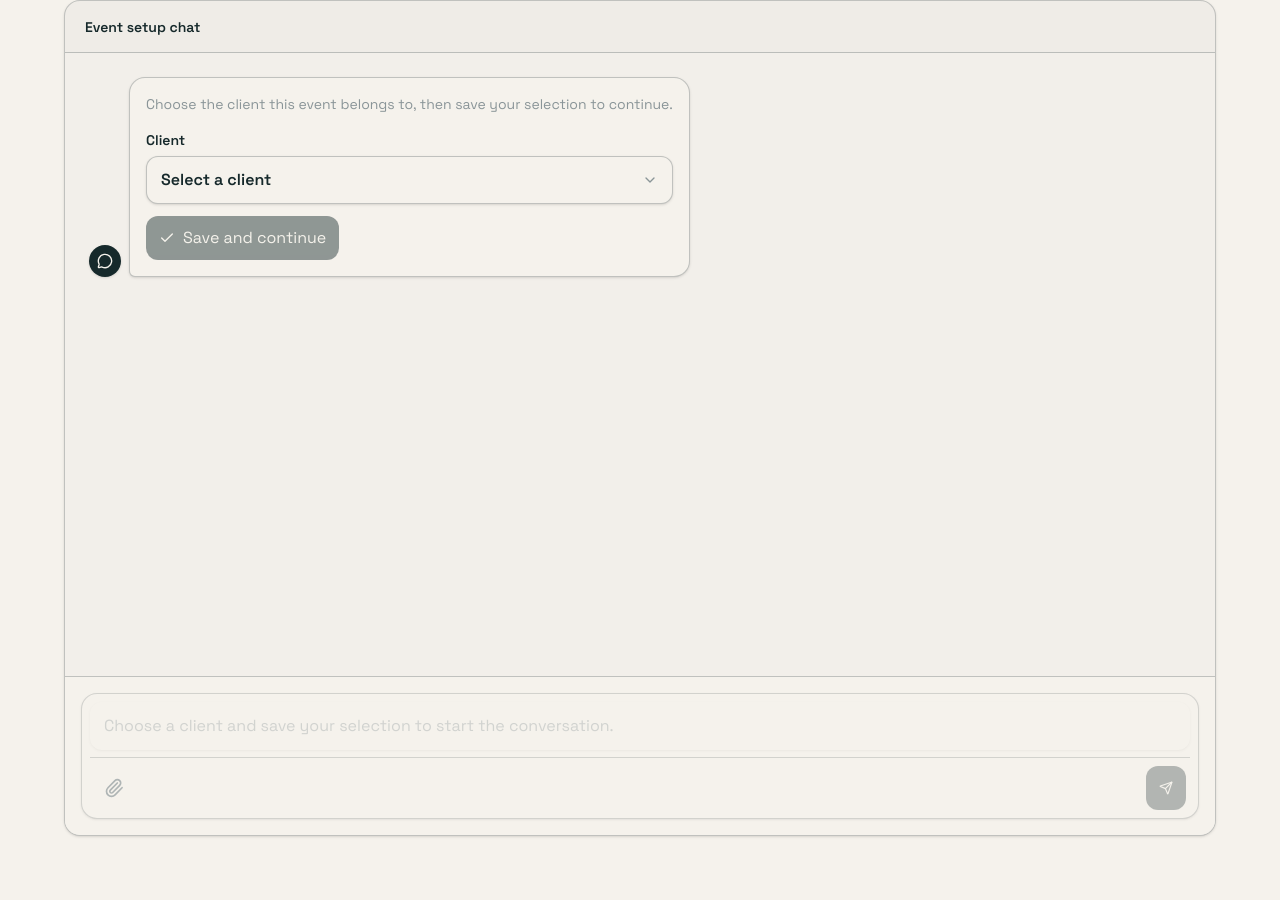
Test: CreateEventPage platform administrator flow › offers a fillable brief when the client chooses the file workflow
Click the button "Select a client".
click(216, 180)  # box [146,156,673,204]
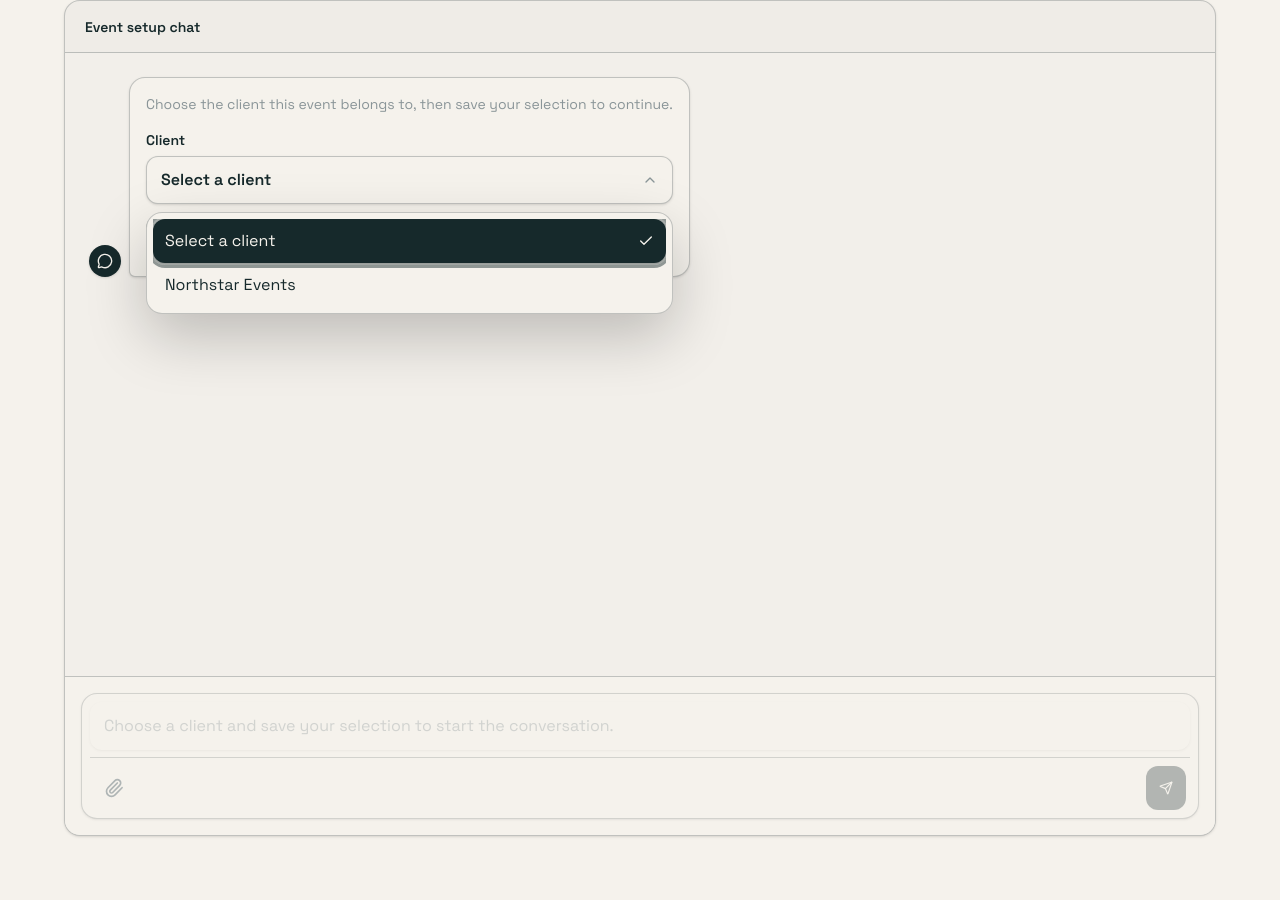
Click the option "Northstar Events".
click(230, 284)  # box [153,263,666,307]
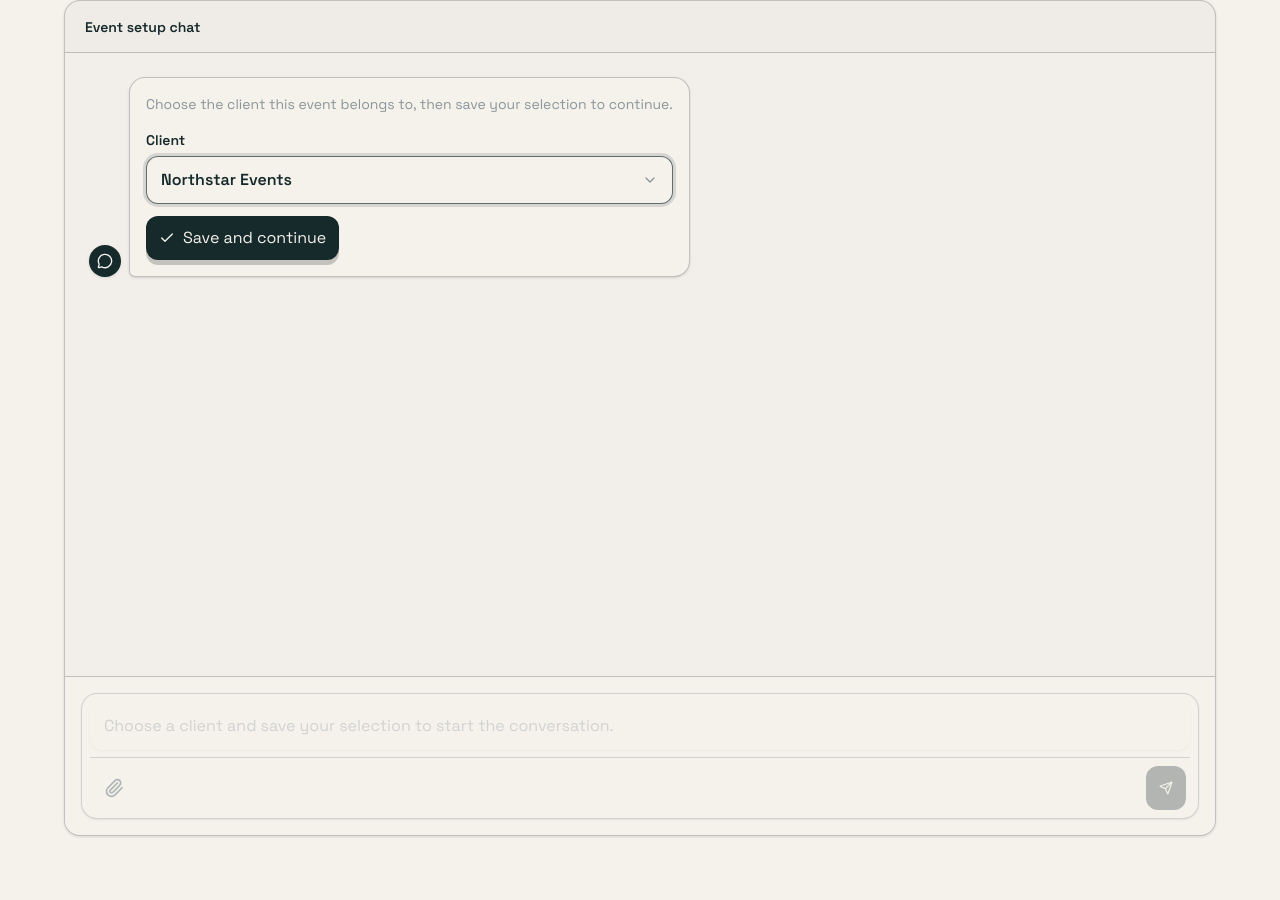
Click the button "Save and continue".
click(243, 238)  # box [146,216,339,260]
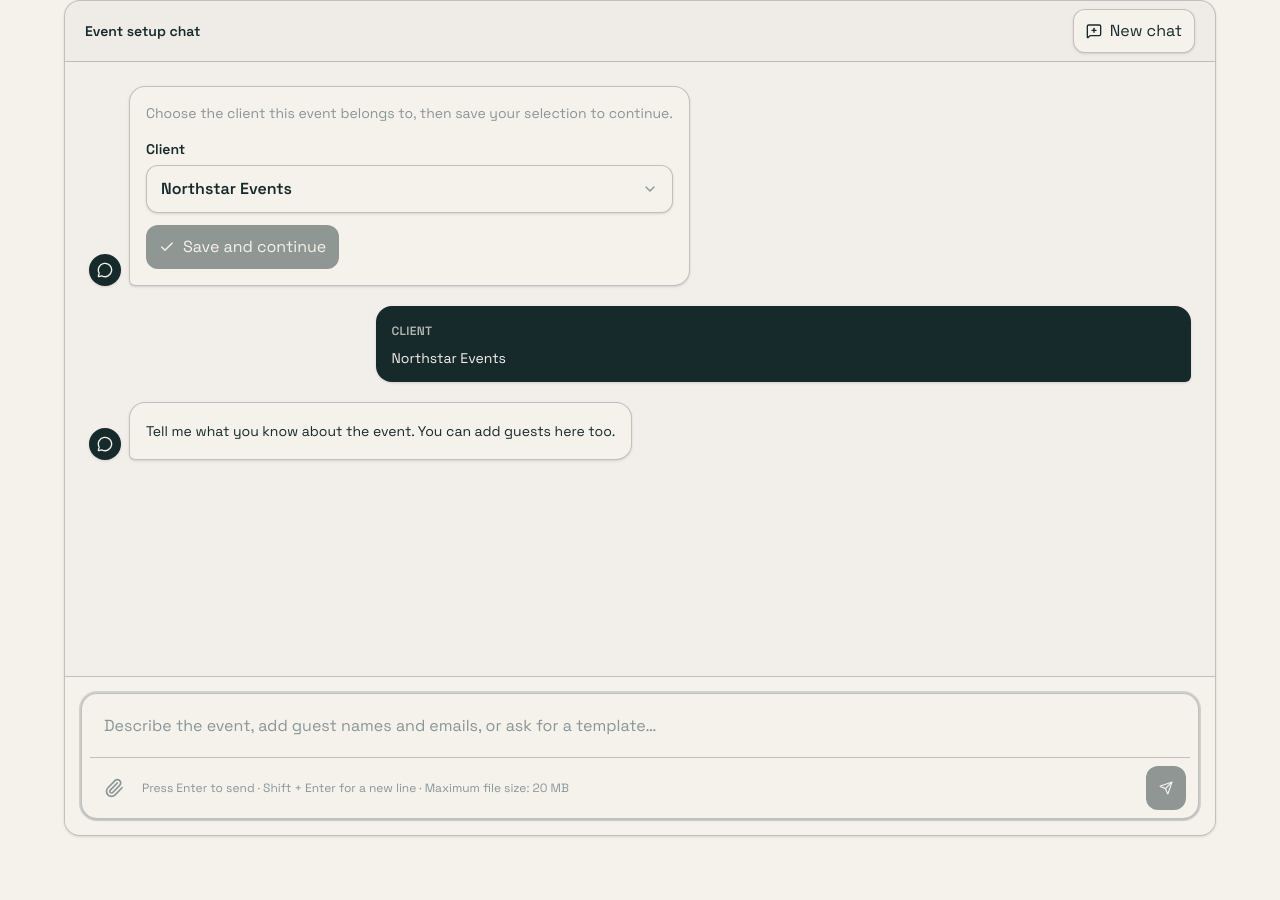
Check: the button "Guide me step by step" is not shown
Type "template" into the text box named "Event information".
click(640, 726); type("template")  # box [90,702,1190,750]
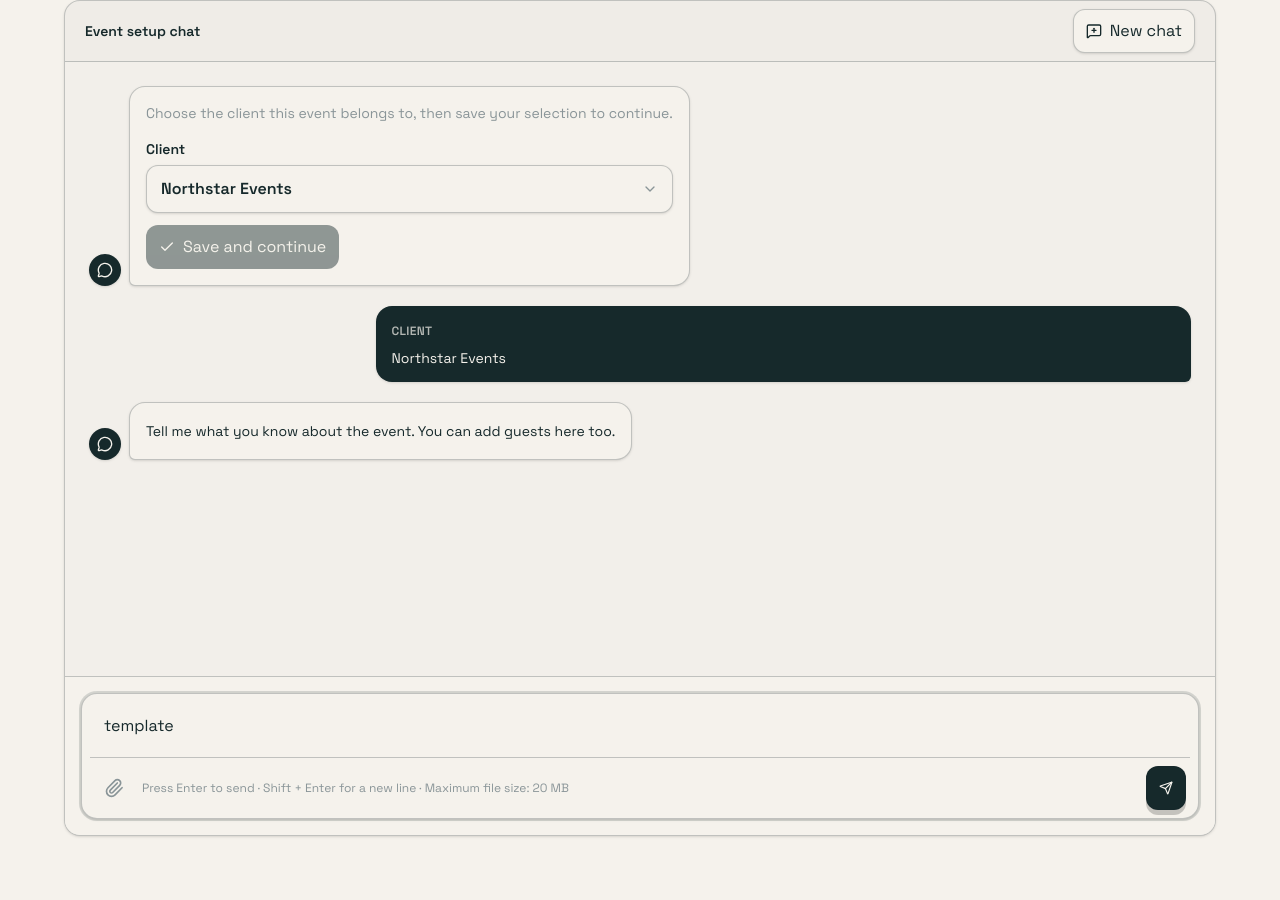
Click the button named "Send message".
click(1166, 788)  # box [1146,766,1186,810]
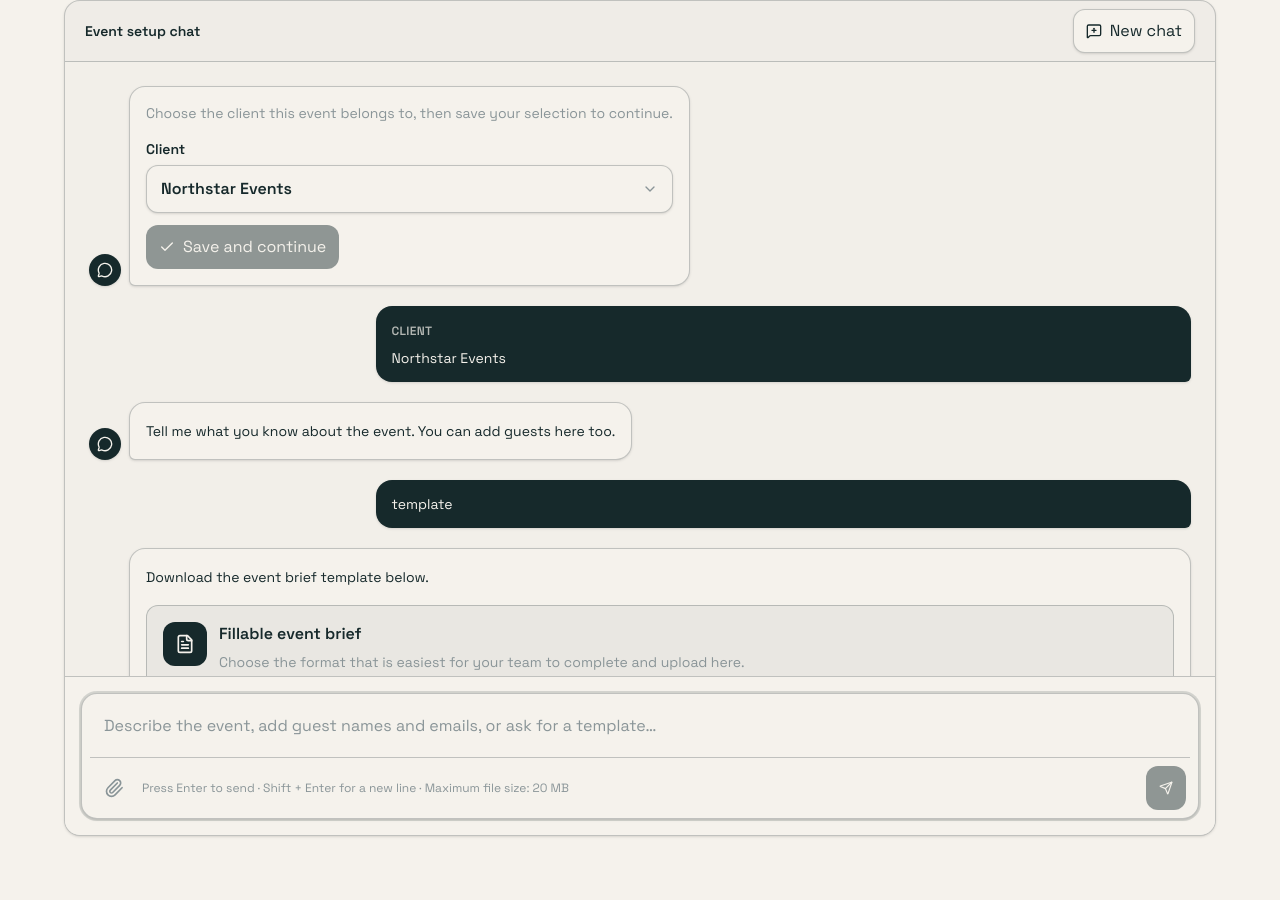
Check: the text "Fillable event brief" is shown, box [219,623,362,644]
